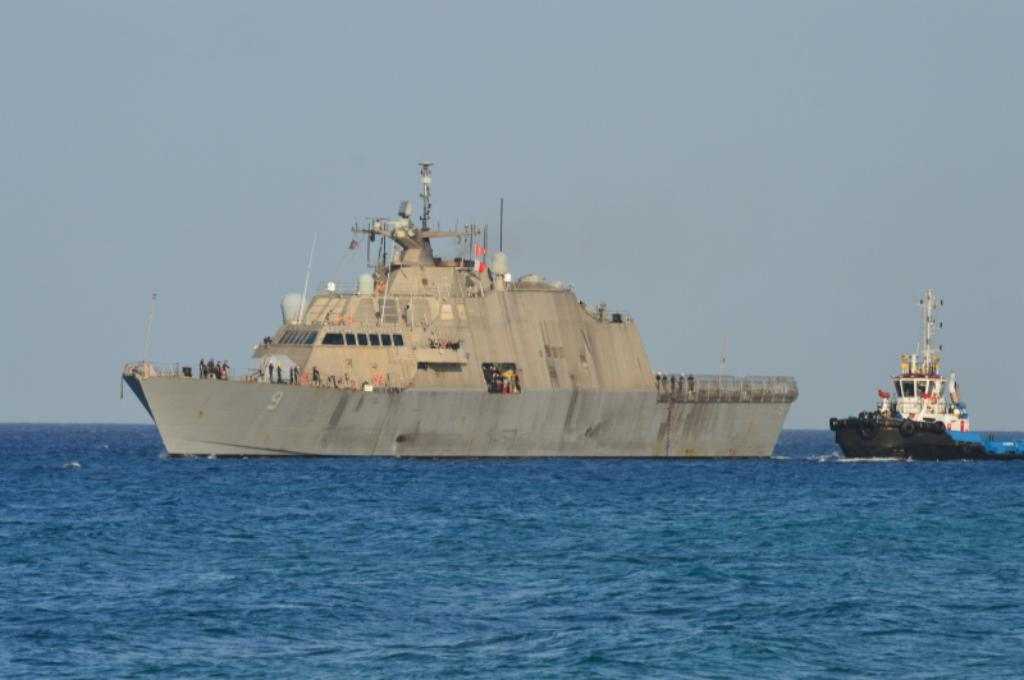Warship: (118, 158, 800, 460)
